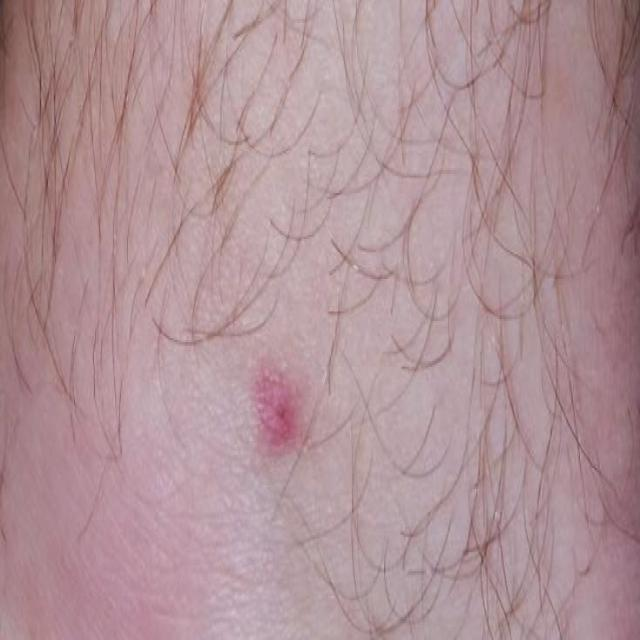sinek: (243, 342, 314, 456)
